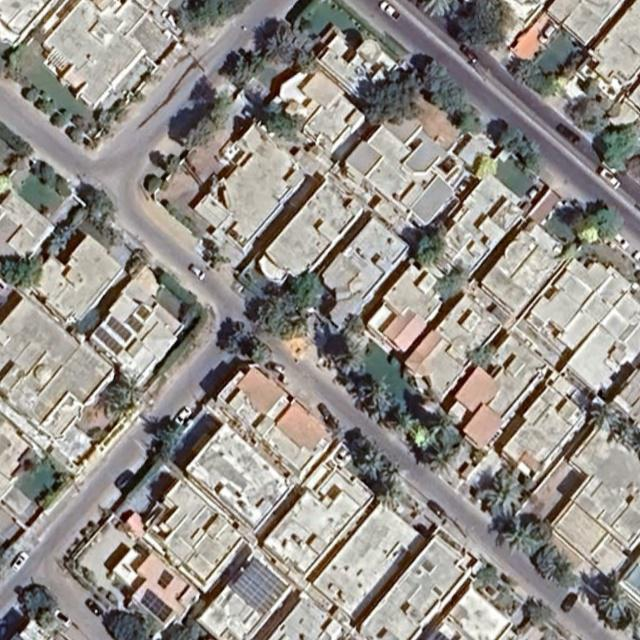solar panel: (230, 558, 289, 616), (140, 588, 174, 623), (95, 327, 123, 355), (107, 315, 133, 343), (126, 314, 145, 334), (158, 570, 175, 590), (137, 306, 152, 321)
